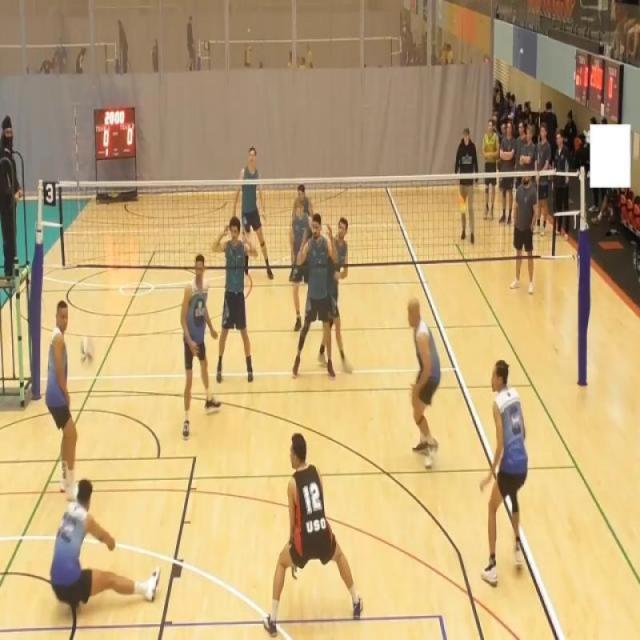volleyball: (79, 336, 95, 368)
